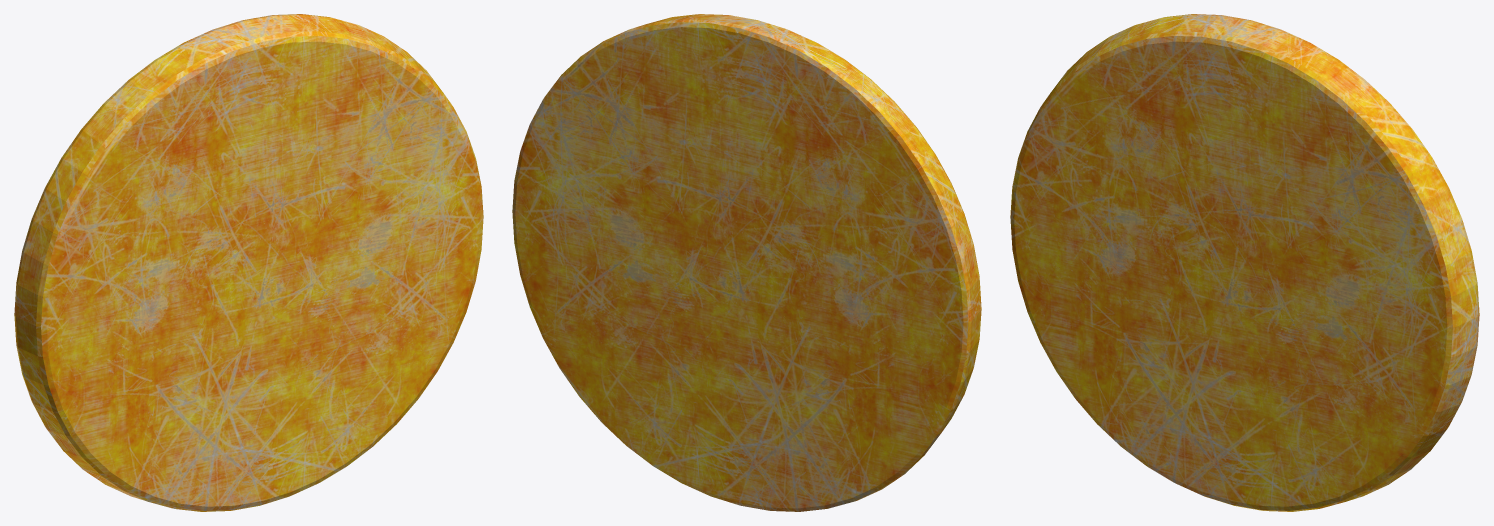
File: button_collar_vis.obj
The picture shows the model from 3 angles, left to right: view 1: azimuth 30°, elevation 25°; view 2: azimuth 150°, elevation 25°; view 3: azimuth 330°, elevation 25°; orthographic projection.
Bounding box in the file's own units: 0.0607 × 0.0607 × 0.005.
1 material, 1 textured.
